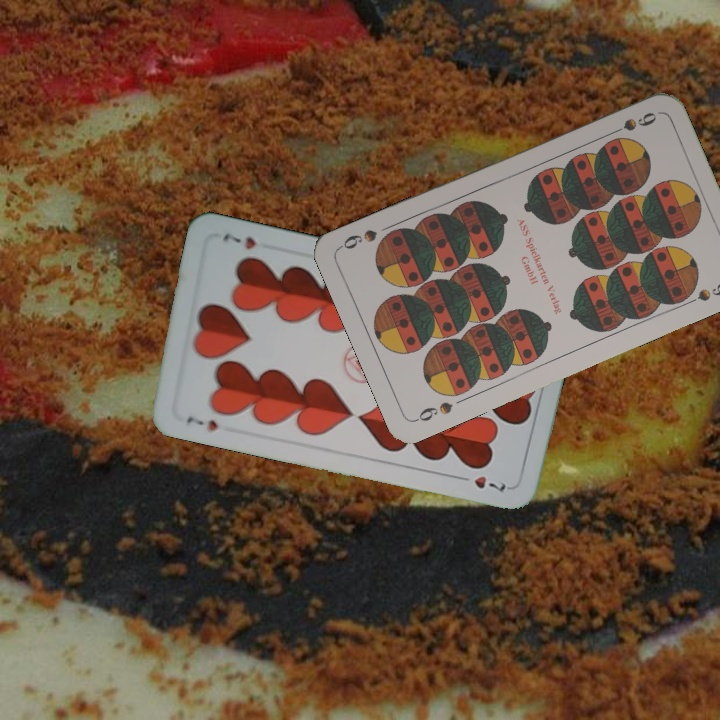H7: (182, 412, 221, 434)
S9: (603, 108, 659, 139), (411, 397, 456, 425)
